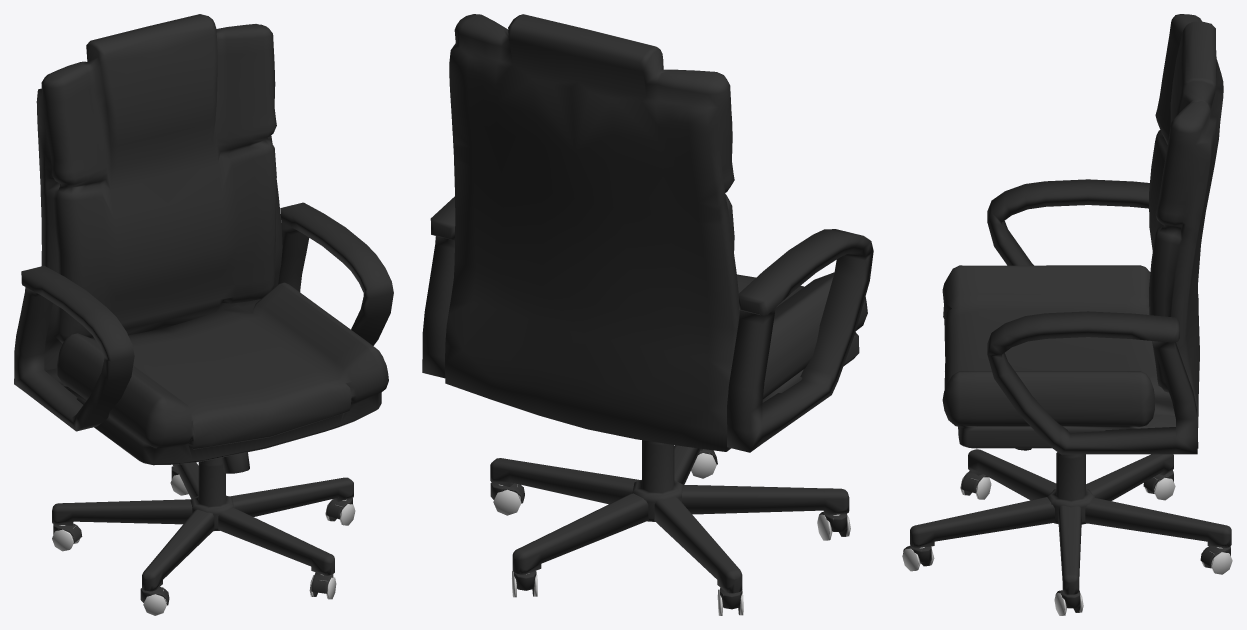
The model's file is chair-transformed.glb.
3 views of the same model, side by side, from view 1: azimuth 30°, elevation 25°; view 2: azimuth 150°, elevation 25°; view 3: azimuth 270°, elevation 25° (orthographic). The views are drawn at different scales.
Parts seen in each view (by area): view 1: Leg_LP4_lambert1_0; view 2: Leg_LP4_lambert1_0; view 3: Leg_LP4_lambert1_0.
Boxes of the visible parts, x1,y1,x2,y2 form: Leg_LP4_lambert1_0: (14, 14, 393, 615); Leg_LP4_lambert1_0: (422, 14, 873, 615); Leg_LP4_lambert1_0: (902, 14, 1232, 615).
Bounding box in the file's own units: 0.7163 × 1.16 × 0.6947.
1 material, 1 textured.
